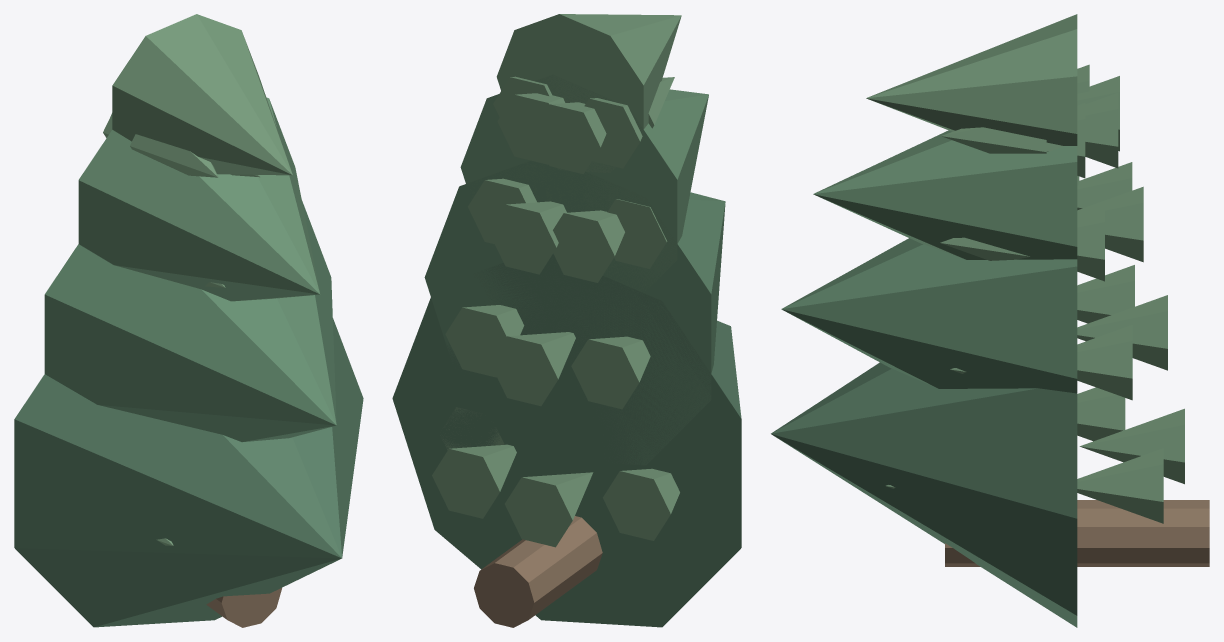
The model's file is himalayan_pine.glb.
3 views of the same model, side by side, from view 1: azimuth 30°, elevation 25°; view 2: azimuth 150°, elevation 25°; view 3: azimuth 270°, elevation 25° (orthographic). The views are drawn at different scales.
Visible parts, largest first — view 1: himalayan_pine_01, himalayan_pine_09, himalayan_pine_17, himalayan_pine_25, himalayan_pine_00, himalayan_pine_28; view 2: himalayan_pine_01, himalayan_pine_09, himalayan_pine_17, himalayan_pine_25, himalayan_pine_00, himalayan_pine_07, himalayan_pine_15, himalayan_pine_08, himalayan_pine_14, himalayan_pine_06, himalayan_pine_23, himalayan_pine_22 (+8 smaller); view 3: himalayan_pine_01, himalayan_pine_09, himalayan_pine_17, himalayan_pine_25, himalayan_pine_00, himalayan_pine_08, himalayan_pine_07, himalayan_pine_15, himalayan_pine_16, himalayan_pine_23, himalayan_pine_14, himalayan_pine_06 (+7 smaller).
Part boxes in pixels (x1,y1,x2,y2): himalayan_pine_01: (14,318,363,627); himalayan_pine_09: (44,201,336,442); himalayan_pine_17: (78,97,320,301); himalayan_pine_25: (112,14,292,175); himalayan_pine_00: (206,588,281,627); himalayan_pine_28: (130,134,218,177); himalayan_pine_01: (392,254,741,627); himalayan_pine_09: (424,160,725,465); himalayan_pine_17: (460,74,708,301); himalayan_pine_25: (496,14,681,172); himalayan_pine_00: (474,516,602,627); himalayan_pine_07: (505,472,593,547); himalayan_pine_15: (490,332,575,406); himalayan_pine_08: (432,444,516,518); himalayan_pine_14: (571,336,650,409); himalayan_pine_06: (603,468,679,540); himalayan_pine_23: (488,201,566,274); himalayan_pine_22: (553,210,624,282); himalayan_pine_01: (771,362,1077,627); himalayan_pine_09: (781,238,1077,393); himalayan_pine_17: (813,130,1077,259); himalayan_pine_25: (866,14,1077,145); himalayan_pine_00: (945,500,1209,566); himalayan_pine_08: (1077,448,1163,523); himalayan_pine_07: (1079,408,1184,484); himalayan_pine_15: (1077,295,1167,370); himalayan_pine_16: (1077,325,1132,400); himalayan_pine_23: (1077,186,1143,262); himalayan_pine_14: (1077,265,1134,323); himalayan_pine_06: (1077,387,1125,441).
Size of the model in its own units: 1.84 by 3.08 by 2.08.
